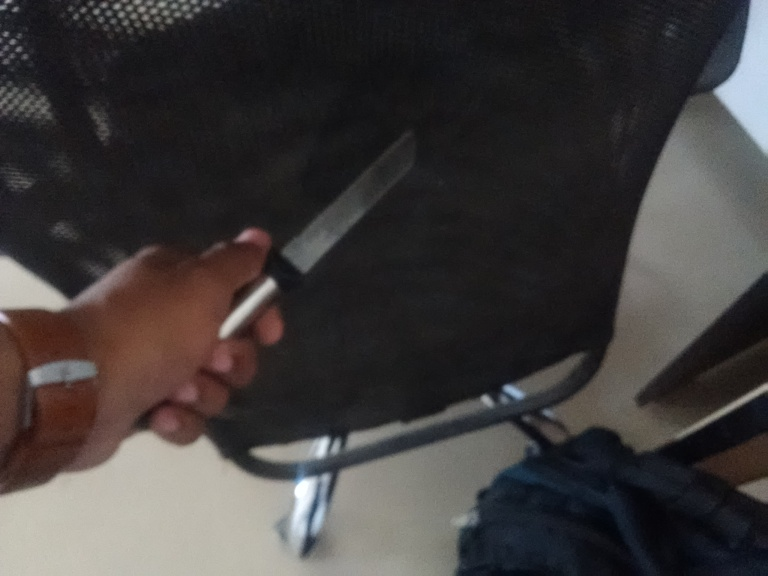knife: (219, 130, 418, 340)
